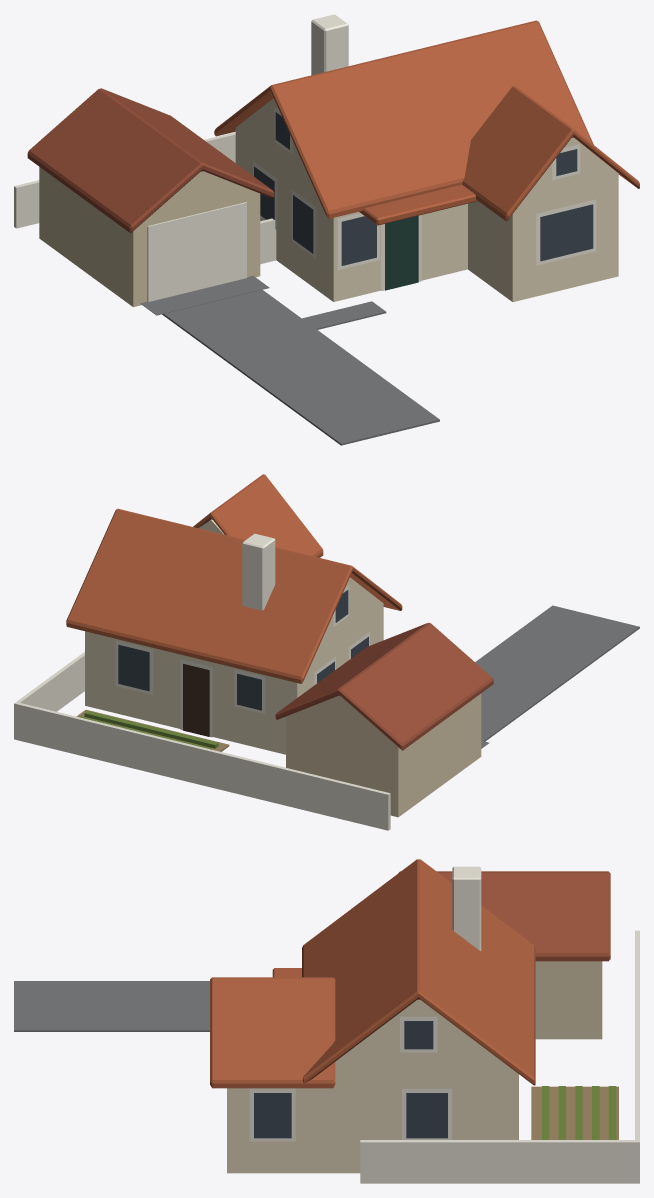
The model's file is house.glb.
3 renders of one model, top to bottom at view 1: azimuth 30°, elevation 25°; view 2: azimuth 150°, elevation 25°; view 3: azimuth 270°, elevation 25°, orthographic. The views are drawn at different scales.
Visible parts, largest first — view 1: house; view 2: house; view 3: house.
Part boxes in pixels (x1,y1,x2,y2): house: (14,14,639,445); house: (14,474,639,830); house: (14,859,639,1183).
Size of the model in its own units: 12.05 by 5.7 by 15.
